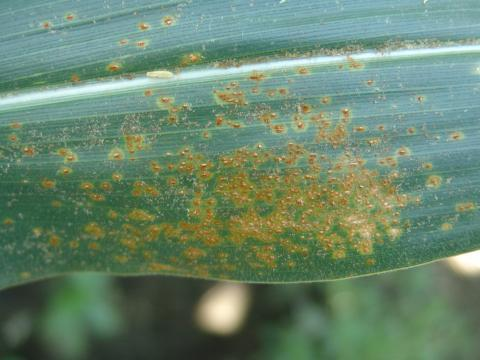Corn rust leaf: (1, 1, 480, 296)
